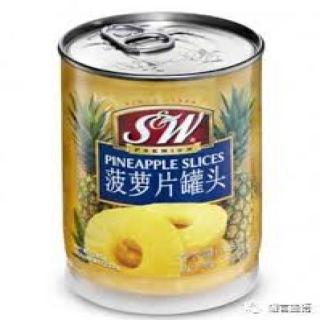Anorganik: (56, 6, 268, 314)
